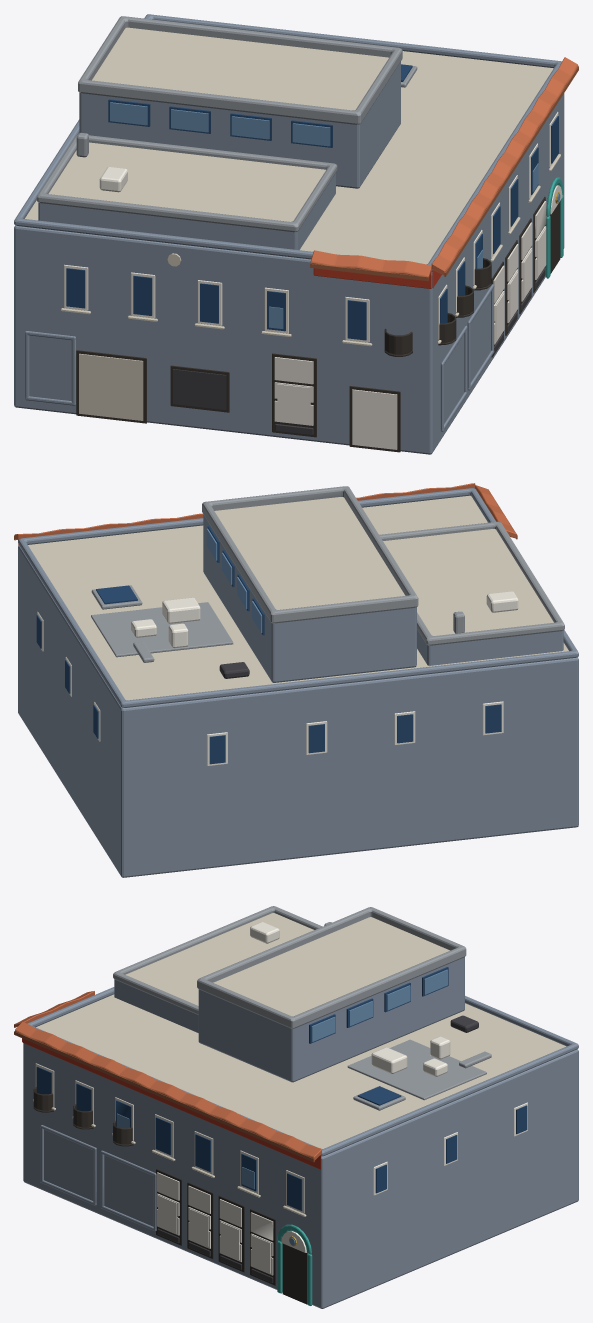
Rendered from 414-brannan.optimized.glb.
3 renders of one model, top to bottom at view 1: azimuth 30°, elevation 25°; view 2: azimuth 150°, elevation 25°; view 3: azimuth 270°, elevation 25°, orthographic. The views are drawn at different scales.
Parts seen in each view (by area): view 1: grp_Toy_slate_Toy_stone, grp_Toy_steel, grp_Toy_slate, grp_Toy_trim, grp_Toy_ink, grp_Toy_glass, grp_Toy_brick, grp_Toy_stone, grp_Toy_glass_Glow, grp_Toy_trim_Glow, grp_Toy_roofd, grp_Toy_rust (+2 smaller); view 2: grp_Toy_slate_Toy_stone, grp_Toy_steel, grp_Toy_slate, grp_Toy_trim, grp_Toy_glass, grp_Toy_brick, grp_Toy_glass_Glow; view 3: grp_Toy_slate_Toy_stone, grp_Toy_steel, grp_Toy_trim, grp_Toy_slate, grp_Toy_glass, grp_Toy_ink, grp_Toy_brick, grp_Toy_trim_Glow, grp_Toy_glass_Glow, grp_Toy_ioorange, grp_Toy_rust, grp_Toy_roofd (+1 smaller).
Part boxes in pixels (x1,y1,x2,y2): grp_Toy_slate_Toy_stone: (14,27,564,454); grp_Toy_steel: (36,16,417,232); grp_Toy_slate: (14,14,561,431); grp_Toy_trim: (64,112,562,449); grp_Toy_ink: (76,197,560,452); grp_Toy_glass: (66,64,558,340); grp_Toy_brick: (310,57,578,277); grp_Toy_stone: (61,154,560,420); grp_Toy_glass_Glow: (110,102,560,328); grp_Toy_trim_Glow: (277,228,546,423); grp_Toy_roofd: (173,268,545,434); grp_Toy_rust: (310,66,578,281); grp_Toy_slate_Toy_stone: (18,495,578,877); grp_Toy_steel: (91,486,564,662); grp_Toy_slate: (18,488,578,707); grp_Toy_trim: (37,591,518,766); grp_Toy_glass: (36,526,501,764); grp_Toy_brick: (14,483,516,539); grp_Toy_glass_Glow: (206,528,262,632); grp_Toy_slate_Toy_stone: (23,913,578,1308); grp_Toy_steel: (113,906,491,1110); grp_Toy_trim: (35,922,527,1275); grp_Toy_slate: (27,987,578,1231); grp_Toy_glass: (36,967,527,1210); grp_Toy_ink: (33,1087,307,1304); grp_Toy_brick: (15,991,321,1160); grp_Toy_trim_Glow: (158,1195,271,1273); grp_Toy_glass_Glow: (117,969,447,1244); grp_Toy_ioorange: (22,1038,321,1169); grp_Toy_rust: (14,999,314,1162); grp_Toy_roofd: (157,1015,478,1283).
Size of the model in its own units: 33.16 by 14 by 33.07.
